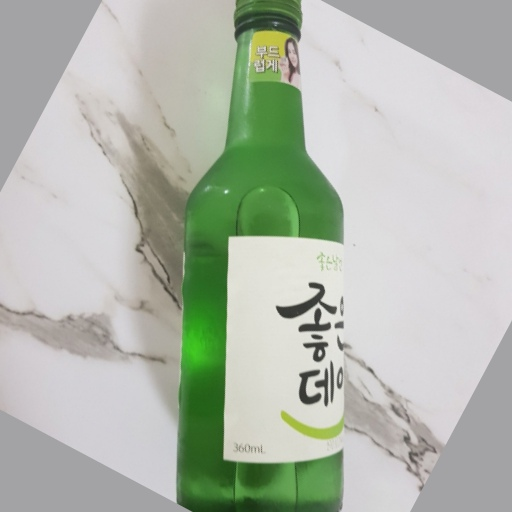Glass_0: (178, 2, 348, 509)
